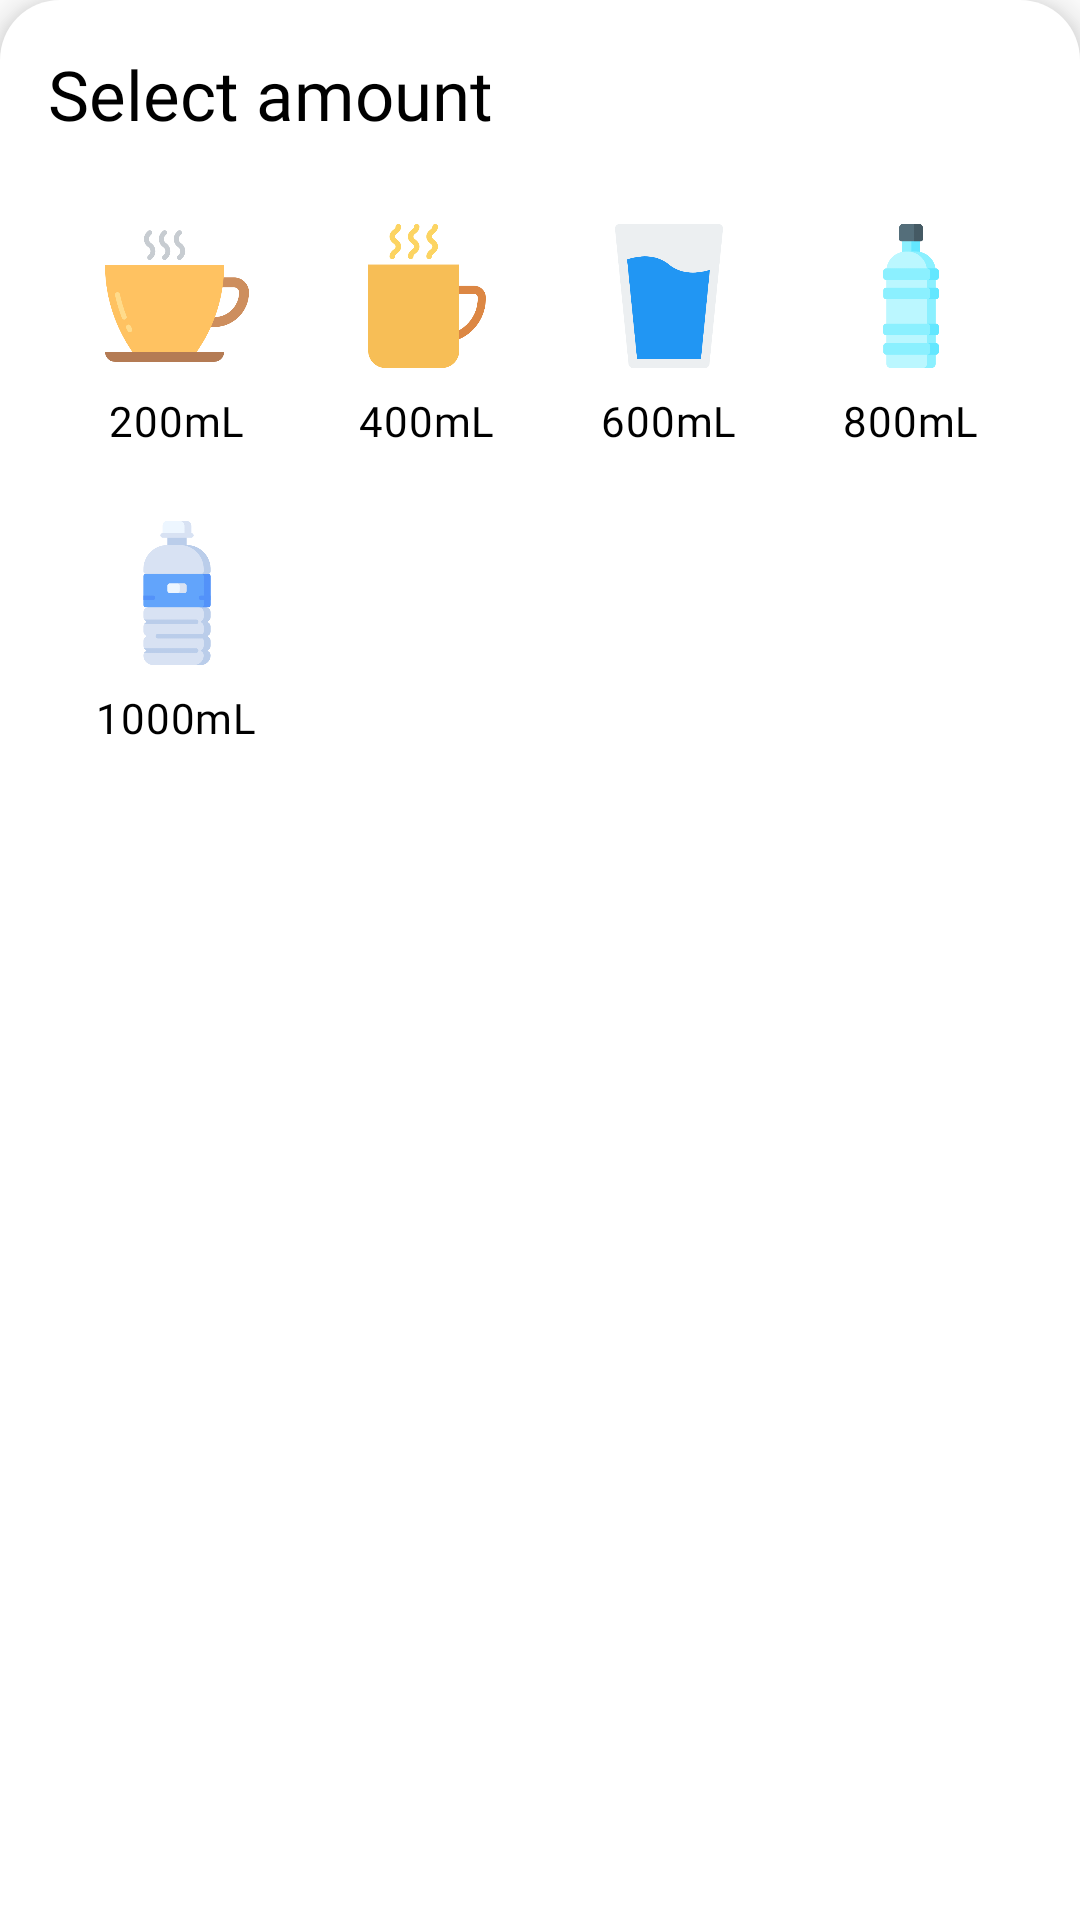

Screen size 1080 x 1920. Icon name, then its center in pixels as (x,y):
hot cup: (177,296)
mug: (427,296)
water glass: (668,307)
